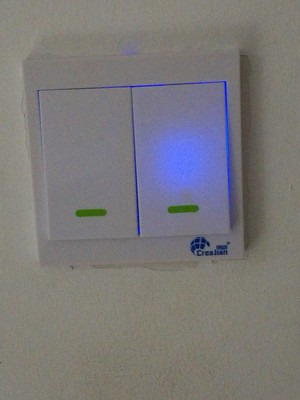switch: (31, 82, 143, 244), (126, 80, 237, 240)
